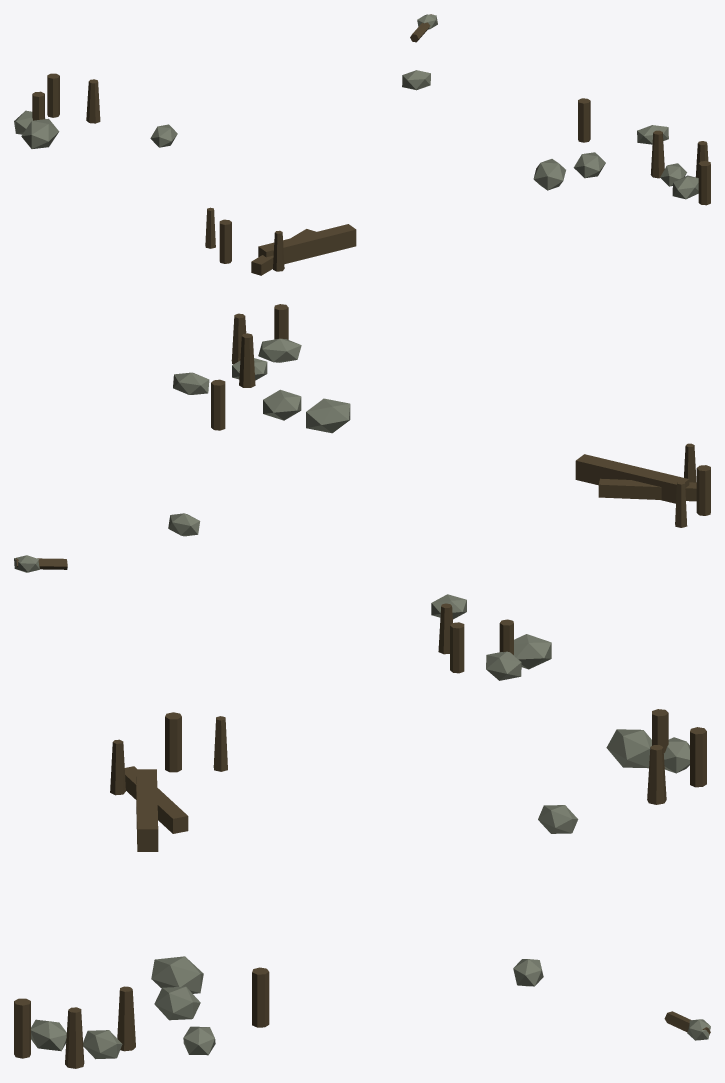
File: path_split_meadow_solid_props.fbx
3 views of the same model, one above another, from view 1: azimuth 30°, elevation 25°; view 2: azimuth 150°, elevation 25°; view 3: azimuth 270°, elevation 25° (orthographic). The views are drawn at different scales.
Parts seen in each view (by area): view 1: chunk_path_split_meadow__PropsSolid; view 2: chunk_path_split_meadow__PropsSolid; view 3: chunk_path_split_meadow__PropsSolid.
Boxes of the visible parts, x1,y1,x2,y2 form: chunk_path_split_meadow__PropsSolid: (14, 14, 710, 275); chunk_path_split_meadow__PropsSolid: (14, 304, 710, 680); chunk_path_split_meadow__PropsSolid: (14, 709, 710, 1068).
Size of the model in its own units: 182 by 17.35 by 167.
